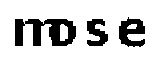e: (116, 17, 148, 49)
m: (9, 17, 58, 50)
o: (47, 15, 76, 48)
s: (82, 17, 108, 51)
